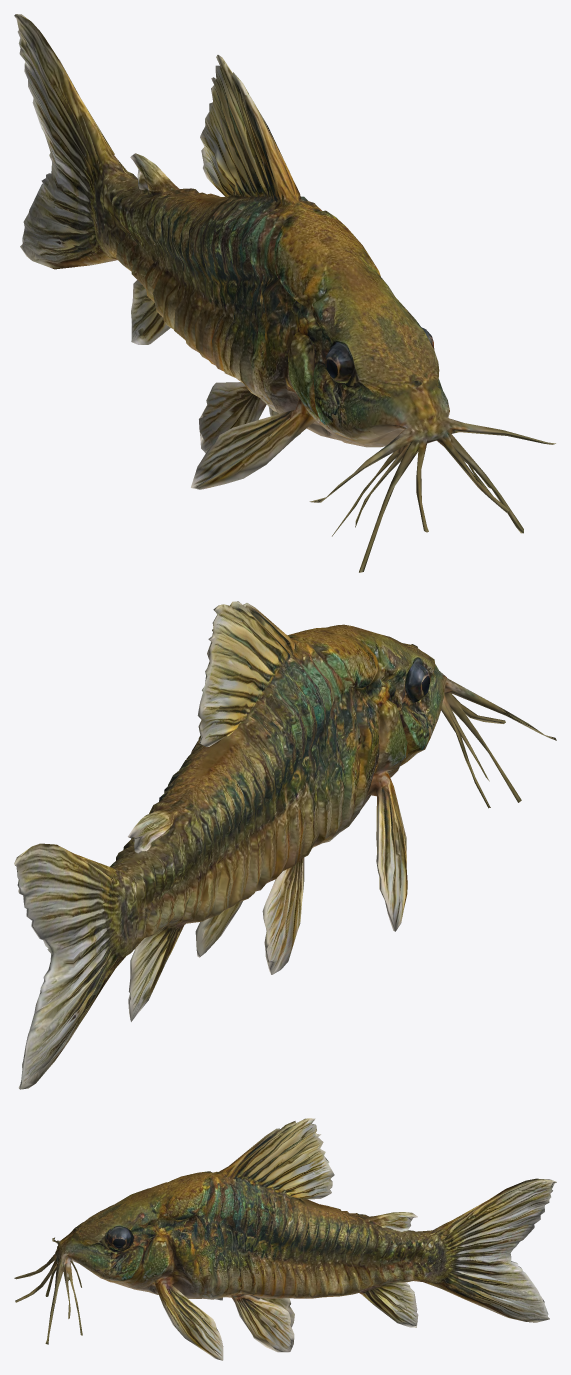
File: corydoras.glb
3 renders of one model, top to bottom at view 1: azimuth 30°, elevation 25°; view 2: azimuth 150°, elevation 25°; view 3: azimuth 270°, elevation 25°, orthographic. The views are drawn at different scales.
Visible parts, largest first — view 1: tripo_node_4e27fbee-cf2b-4d11-8b7a-7f95b2fae3cb; view 2: tripo_node_4e27fbee-cf2b-4d11-8b7a-7f95b2fae3cb; view 3: tripo_node_4e27fbee-cf2b-4d11-8b7a-7f95b2fae3cb.
Boxes of the visible parts, x1,y1,x2,y2 form: tripo_node_4e27fbee-cf2b-4d11-8b7a-7f95b2fae3cb: (14,14,555,572); tripo_node_4e27fbee-cf2b-4d11-8b7a-7f95b2fae3cb: (14,601,556,1089); tripo_node_4e27fbee-cf2b-4d11-8b7a-7f95b2fae3cb: (14,1118,556,1360).
Bounding box in the file's own units: 0.3146 × 0.4543 × 1.
Materials: 1 (1 with a texture image).
